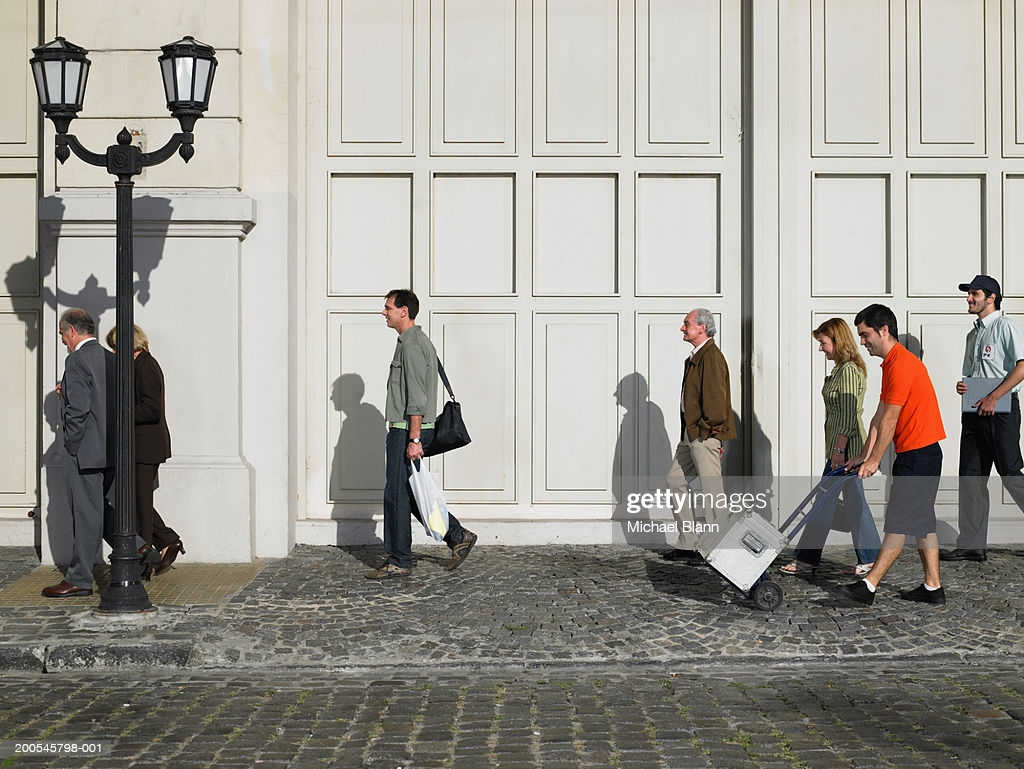person: (833, 305, 949, 606), (365, 290, 483, 583), (777, 316, 890, 575), (941, 271, 1023, 562), (106, 321, 192, 583), (44, 307, 115, 597), (664, 307, 738, 555)
